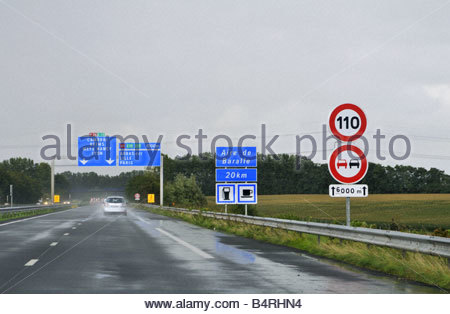Speed_limit_110km: (330, 102, 367, 142)
